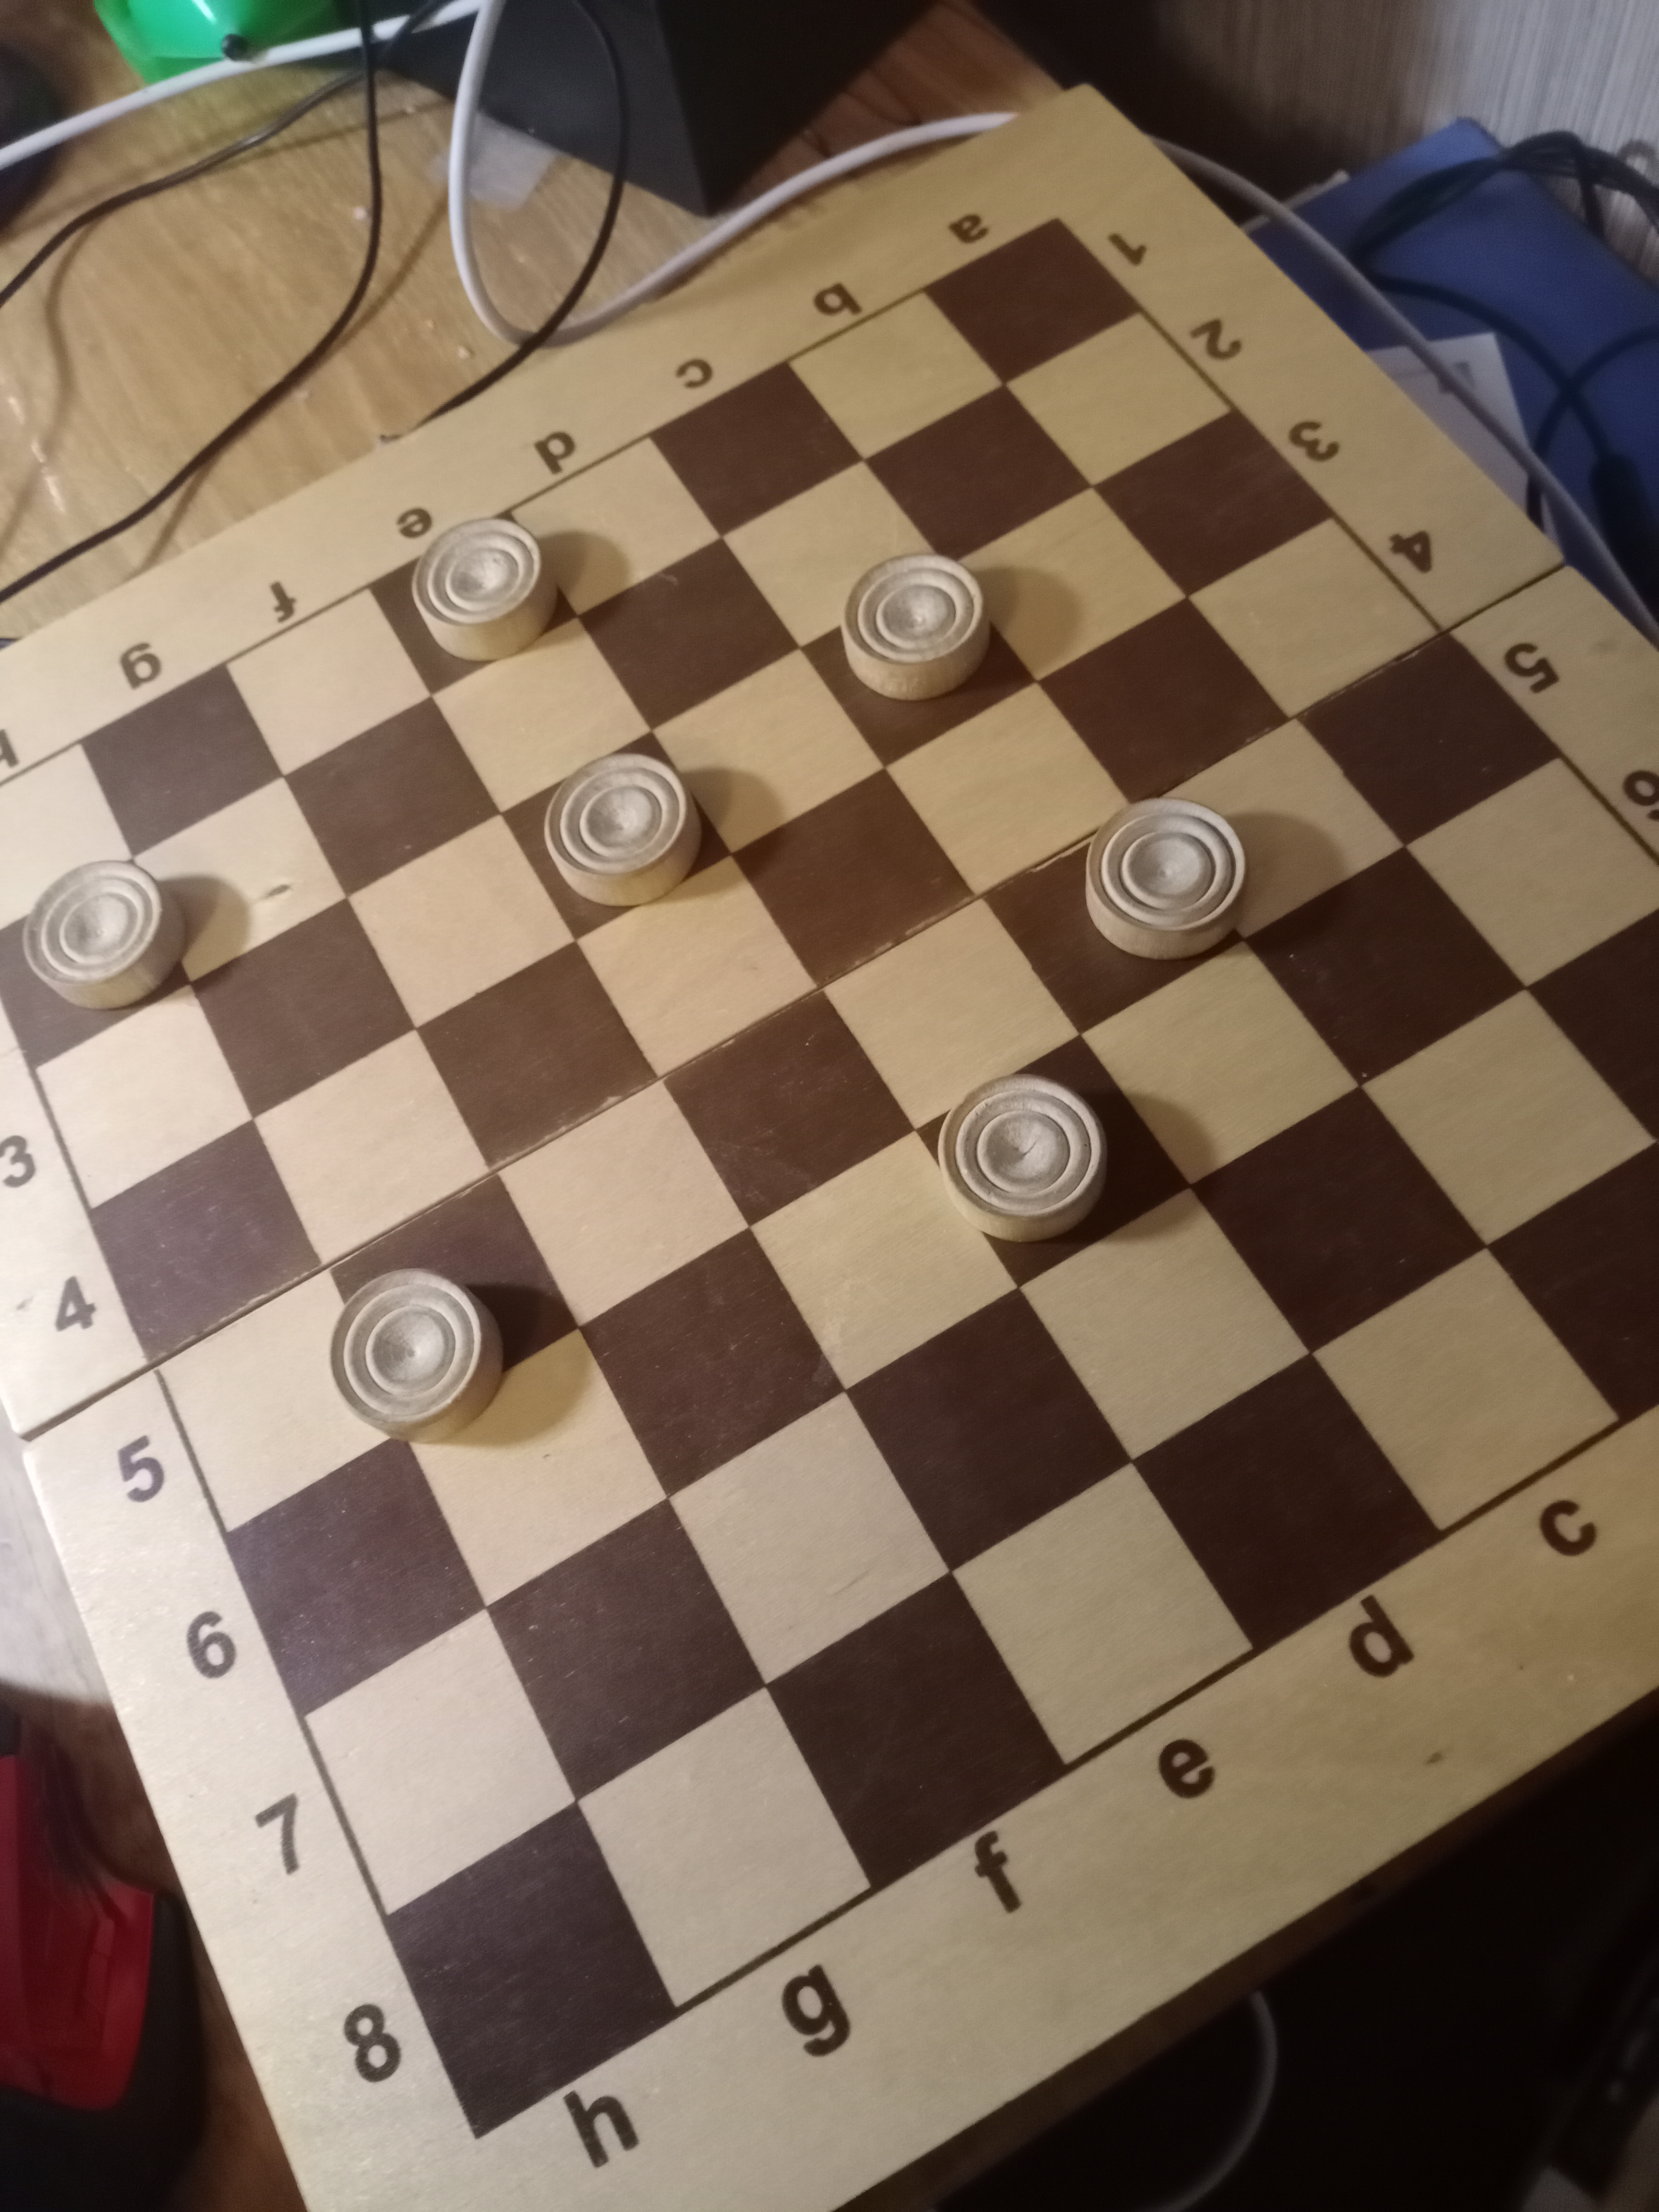White_Draught: (917, 1036, 1190, 1289), (328, 1172, 579, 1444), (983, 796, 1246, 1035), (800, 552, 1035, 770), (500, 730, 732, 941), (0, 859, 190, 1069), (369, 510, 579, 697)
